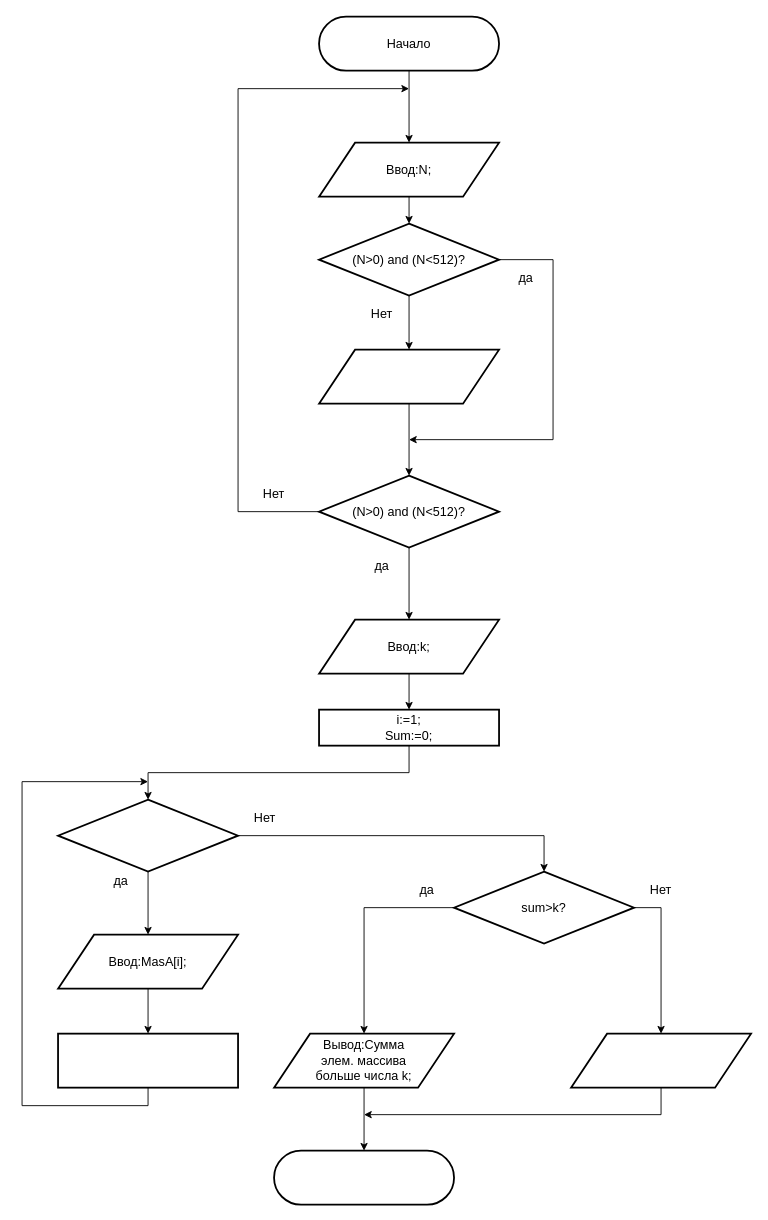
The diagram is 768 pixels wide and 1220 high, and some of its shapes have lost their labels. Each missing label, with the centre of its shape:
i<=N?: pixel 147 835
Sum:=sum+MasA[i];: pixel 147 1060
Вывод:Ошибка. Введите заново;: pixel 409 376
Вывод:Сумма элем. массива меньше числа k;: pixel 661 1060
Конец: pixel 363 1177
